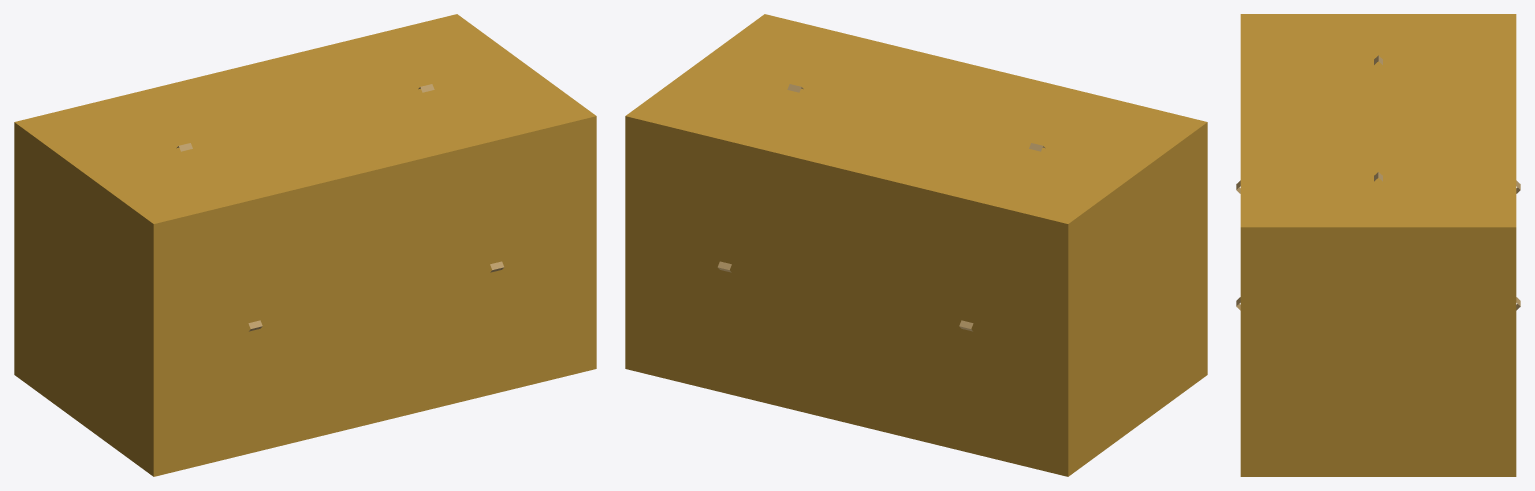
File: SM_HayBale.fbx
3 views of the same model, side by side, from view 1: azimuth 30°, elevation 25°; view 2: azimuth 150°, elevation 25°; view 3: azimuth 270°, elevation 25° (orthographic).
Parts seen in each view (by area): view 1: HayBale; view 2: HayBale; view 3: HayBale.
Part boxes in pixels (x1,y1,x2,y2): HayBale: (14,14,596,476); HayBale: (625,14,1207,476); HayBale: (1236,14,1520,476).
Size of the model in its own units: 110 by 62 by 62.
